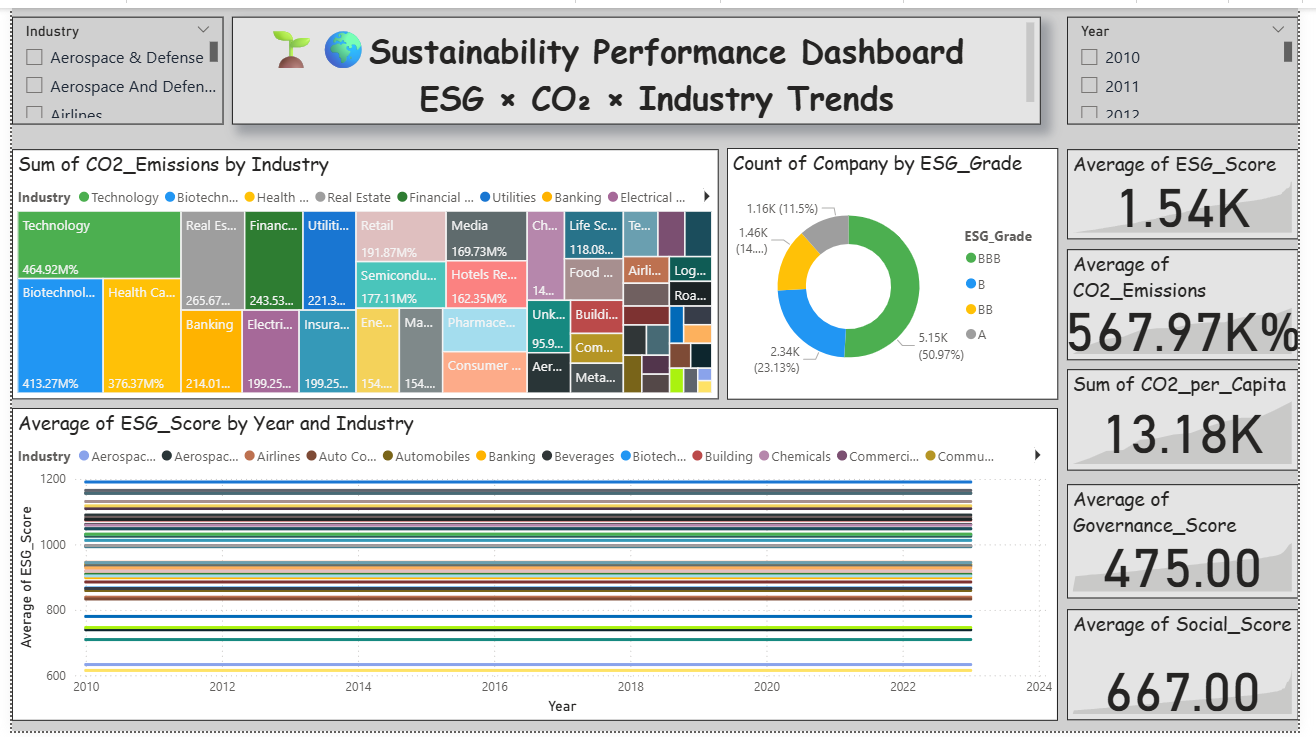

The page's visual inventory and layout, read from the dashboard file:
{"tool":"powerbi","page":{"name":"Overview","canvas":[1280,720],"ordinal":0},"visuals":[{"type":"textbox","box":[218.9,8.7,804.8,107],"z":0},{"type":"kpi","title":"Average of ESG_Score ","fields":{"Indicator":["Avg(merged_esg_co2_clean.ESG_Score)"],"TrendLine":["merged_esg_co2_clean.ESG_Score"]},"box":[1049.9,140.6,230.1,89.6],"z":1000},{"type":"kpi","title":"Average of CO2_Emissions","fields":{"Indicator":["Avg(merged_esg_co2_clean.CO2_Emissions)"],"TrendLine":["merged_esg_co2_clean.CO2_Emissions"]},"box":[1049.9,240.1,230.1,110.7],"z":2000},{"type":"kpi","title":"Sum of CO2_per_Capita ","fields":{"Indicator":["Sum(merged_esg_co2_clean.CO2_per_Capita)"],"TrendLine":["merged_esg_co2_clean.CO2_per_Capita"]},"box":[1049.9,359.5,230.1,100.8],"z":3000},{"type":"kpi","title":"Average of Governance_Score ","fields":{"Indicator":["Avg(merged_esg_co2_clean.Governance_Score)"],"TrendLine":["merged_esg_co2_clean.Governance_Score"]},"box":[1049.9,473.9,230.1,113.2],"z":4000},{"type":"kpi","title":"Average of Social_Score ","fields":{"Indicator":["Avg(merged_esg_co2_clean.Social_Score)"],"TrendLine":["merged_esg_co2_clean.Social_Score"]},"box":[1049.9,598.3,230.1,110.7],"z":5000},{"type":"lineChart","fields":{"Category":["merged_esg_co2_clean.Year"],"Y":["Avg(merged_esg_co2_clean.ESG_Score)"],"Series":["merged_esg_co2_clean.Industry"]},"box":[0,398.1,1041.2,311],"z":6000},{"type":"treemap","fields":{"Values":["Sum(merged_esg_co2_clean.CO2_Emissions)"],"Group":["merged_esg_co2_clean.Industry"]},"box":[0,140.6,702.8,248.8],"z":7000},{"type":"slicer","fields":{"Values":["merged_esg_co2_clean.Industry"]},"box":[0,8.7,210.2,107],"z":8000},{"type":"slicer","fields":{"Values":["merged_esg_co2_clean.Year"]},"box":[1049.9,8.7,230.1,107],"z":9000},{"type":"donutChart","fields":{"Category":["merged_esg_co2_clean.ESG_Grade"],"Y":["CountNonNull(merged_esg_co2_clean.Company)"]},"box":[711.5,139.3,329.6,250],"z":10000}]}

Visuals, with their boxes on the page's 1280x720 design canvas (x1, y1, x2, y2). These are canvas units, not pixel positions in the 1316x737 screenshot, which may show the page scaled, cropped or inside an application window:
textbox: x1=219 y1=9 x2=1024 y2=116
"Average of ESG_Score " kpi: x1=1050 y1=141 x2=1280 y2=230
"Average of CO2_Emissions" kpi: x1=1050 y1=240 x2=1280 y2=351
"Sum of CO2_per_Capita " kpi: x1=1050 y1=360 x2=1280 y2=460
"Average of Governance_Score " kpi: x1=1050 y1=474 x2=1280 y2=587
"Average of Social_Score " kpi: x1=1050 y1=598 x2=1280 y2=709
lineChart - merged_esg_co2_clean.Year x Avg(merged_esg_co2_clean.ESG_Score): x1=0 y1=398 x2=1041 y2=709
treemap - Sum(merged_esg_co2_clean.CO2_Emissions) x merged_esg_co2_clean.Industry: x1=0 y1=141 x2=703 y2=389
slicer - merged_esg_co2_clean.Industry: x1=0 y1=9 x2=210 y2=116
slicer - merged_esg_co2_clean.Year: x1=1050 y1=9 x2=1280 y2=116
donutChart - merged_esg_co2_clean.ESG_Grade x CountNonNull(merged_esg_co2_clean.Company): x1=712 y1=139 x2=1041 y2=389
